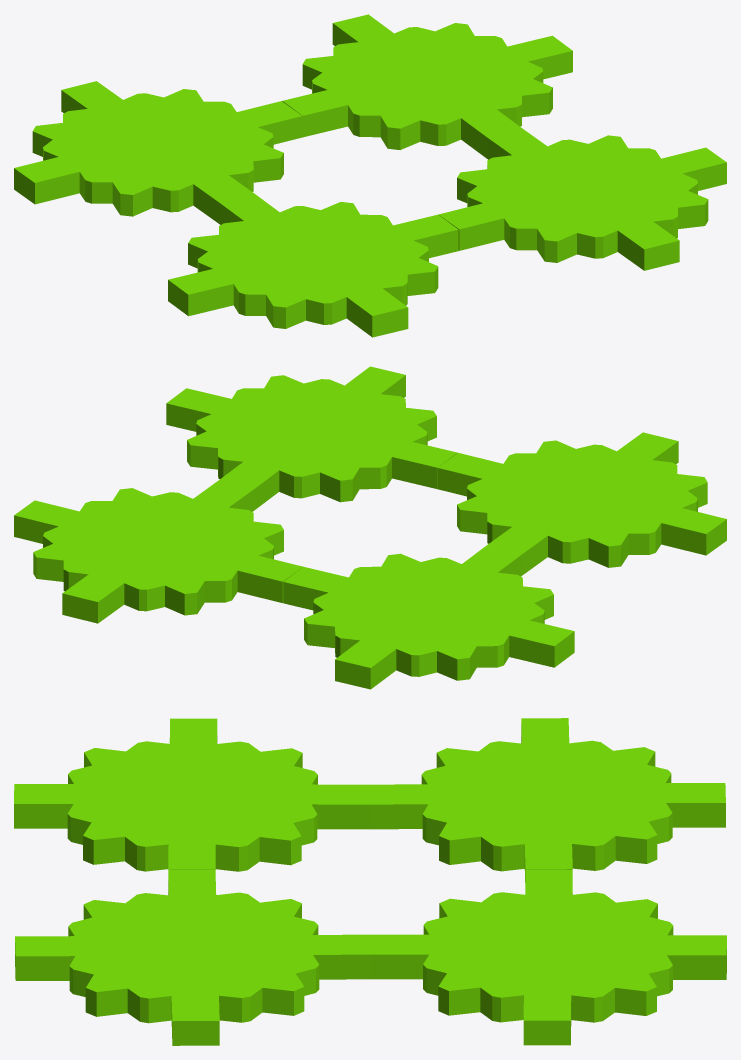
Rendered from PlataformaGiratoria.fbx.
3 views of the same model, one above another, from view 1: azimuth 30°, elevation 25°; view 2: azimuth 150°, elevation 25°; view 3: azimuth 270°, elevation 25° (orthographic). The views are drawn at different scales.
Visible parts, largest first — view 1: E_Trans_01, E_Trans_03, E_Trans_02, E_Trans_04; view 2: E_Trans_02, E_Trans_04, E_Trans_01, E_Trans_03; view 3: E_Trans_04, E_Trans_03, E_Trans_02, E_Trans_01.
Boxes of the visible parts, left/top/right/bottom form: E_Trans_01: left=168, top=194, right=458, bottom=337; E_Trans_03: left=438, top=128, right=726, bottom=270; E_Trans_02: left=14, top=81, right=302, bottom=223; E_Trans_04: left=282, top=14, right=572, bottom=158; E_Trans_02: left=283, top=545, right=574, bottom=689; E_Trans_04: left=14, top=480, right=302, bottom=623; E_Trans_01: left=437, top=432, right=726, bottom=575; E_Trans_03: left=166, top=366, right=457, bottom=510; E_Trans_04: left=369, top=869, right=726, bottom=1045; E_Trans_03: left=15, top=870, right=370, bottom=1045; E_Trans_02: left=368, top=718, right=725, bottom=882; E_Trans_01: left=14, top=718, right=371, bottom=871.
Bounding box in the file's own units: 14271 × 808 × 14190.
